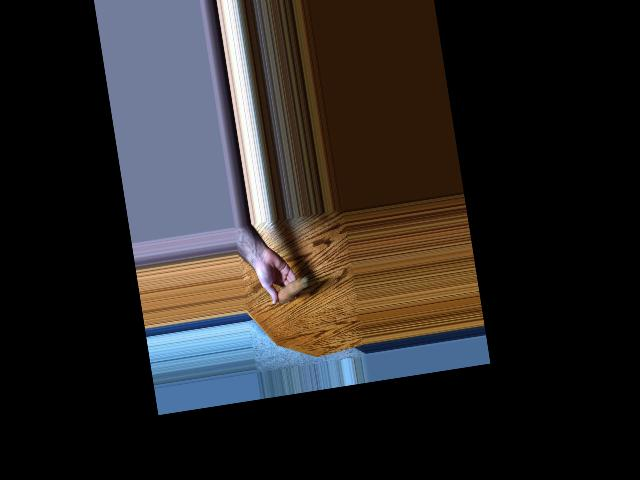sweet_potato: (272, 274, 311, 304)
